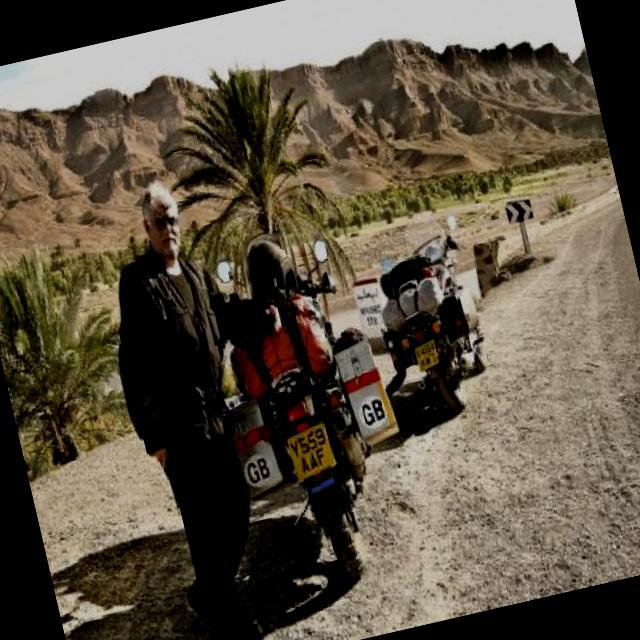Person: (72, 171, 282, 640)
